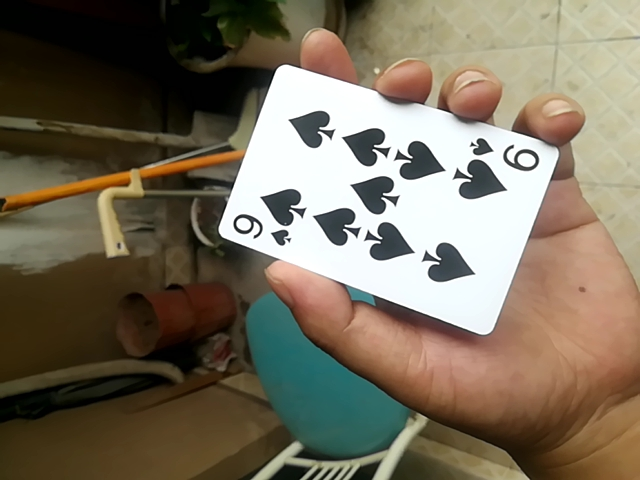ht 9: (208, 59, 558, 339)
